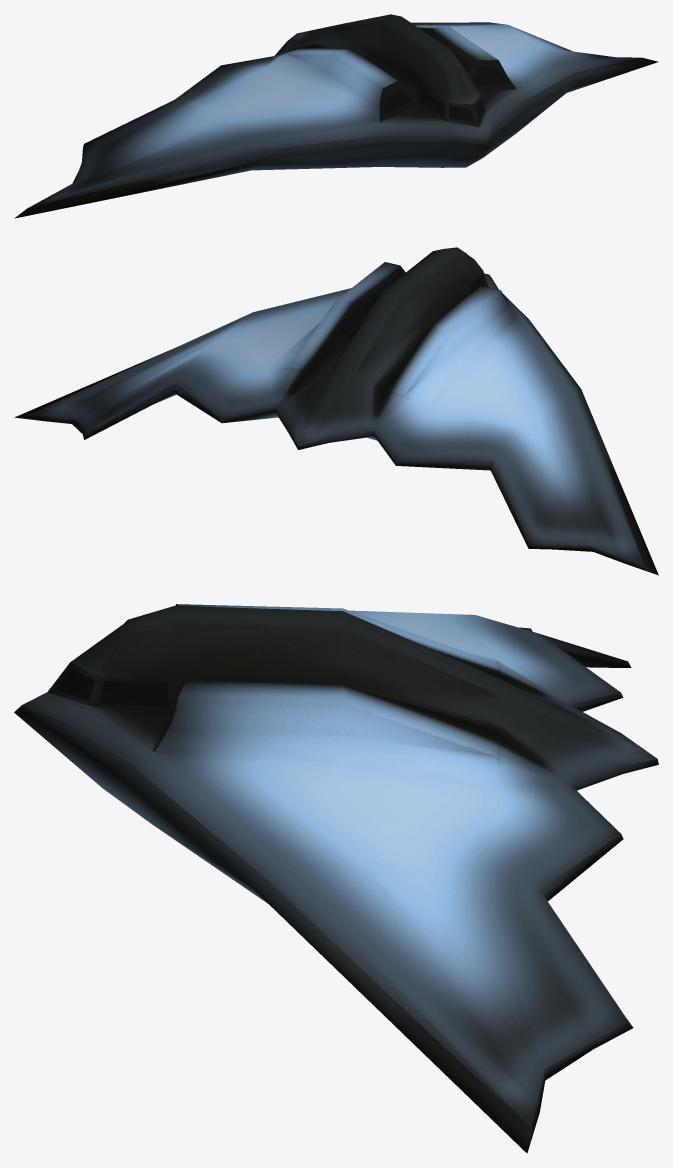
The model's file is bomber.obj.
3 renders of one model, top to bottom at view 1: azimuth 30°, elevation 25°; view 2: azimuth 150°, elevation 25°; view 3: azimuth 270°, elevation 25°, orthographic. The views are drawn at different scales.
Visible parts, largest first — view 1: Catoon_B2; view 2: Catoon_B2; view 3: Catoon_B2.
Part boxes in pixels (x1,y1,x2,y2): Catoon_B2: [14, 14, 658, 218]; Catoon_B2: [14, 247, 658, 575]; Catoon_B2: [14, 604, 658, 1153].
Size of the model in its own units: 95.33 by 24.02 by 49.45.
1 material, 1 textured.
